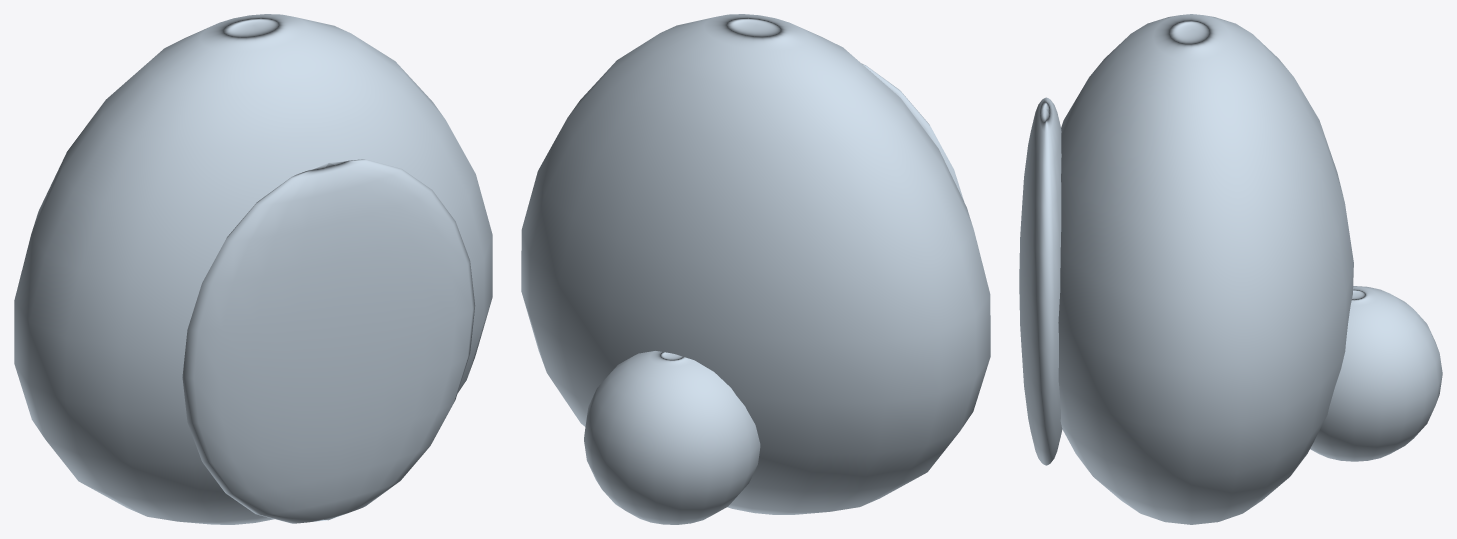
The model's file is Xiangling_GuobaState_FollowCard_GuobaSeatedBody.fbx.
3 renders of one model, left to right at view 1: azimuth 30°, elevation 25°; view 2: azimuth 150°, elevation 25°; view 3: azimuth 270°, elevation 25°, orthographic. The views are drawn at different scales.
Visible parts, largest first — view 1: PART_GuobaRoundBody, PART_GuobaCreamBelly; view 2: PART_GuobaRoundBody, PART_GuobaBackTail, PART_GuobaCreamBelly; view 3: PART_GuobaRoundBody, PART_GuobaBackTail, PART_GuobaCreamBelly.
Part boxes in pixels (left/top/right/bottom): PART_GuobaRoundBody: left=14, top=14, right=492, bottom=524; PART_GuobaCreamBelly: left=182, top=159, right=475, bottom=523; PART_GuobaRoundBody: left=521, top=14, right=990, bottom=514; PART_GuobaBackTail: left=584, top=351, right=760, bottom=524; PART_GuobaCreamBelly: left=861, top=63, right=963, bottom=200; PART_GuobaRoundBody: left=1058, top=14, right=1353, bottom=524; PART_GuobaBackTail: left=1310, top=286, right=1442, bottom=461; PART_GuobaCreamBelly: left=1019, top=97, right=1062, bottom=465.
Size of the model in its own units: 73.66 by 76 by 62.4.
